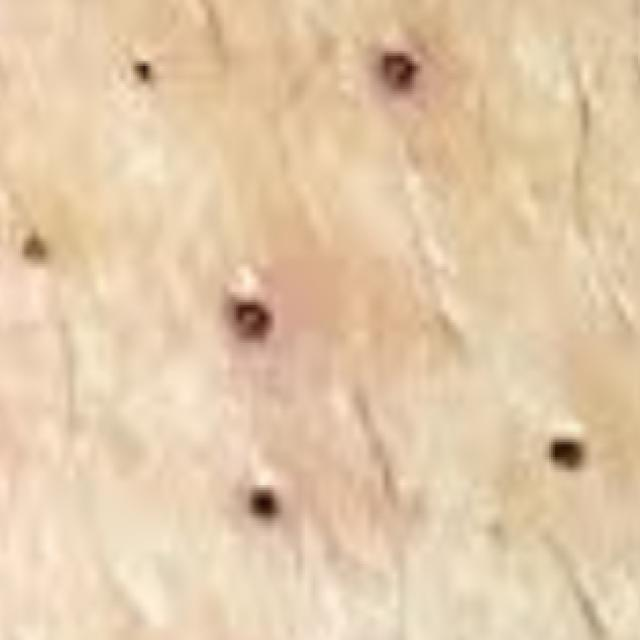blackhead: (236, 306, 266, 337), (385, 59, 410, 87), (554, 445, 577, 465), (253, 494, 274, 514), (25, 243, 43, 257), (136, 63, 148, 77)
